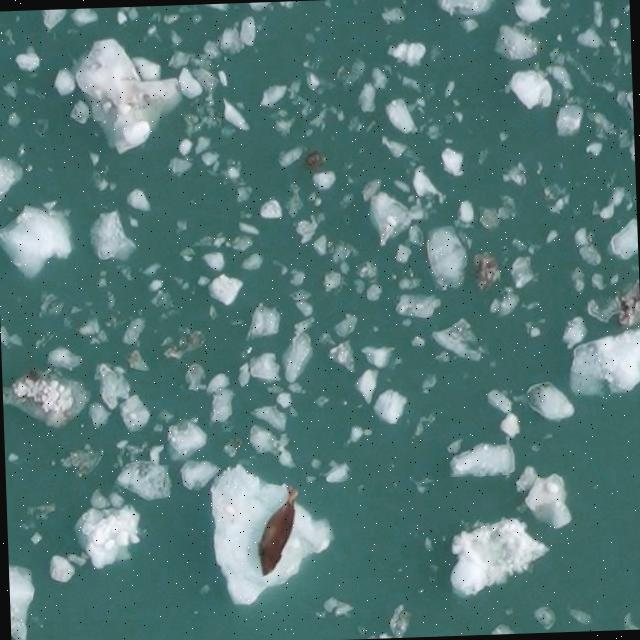seal: (246, 480, 308, 580)
